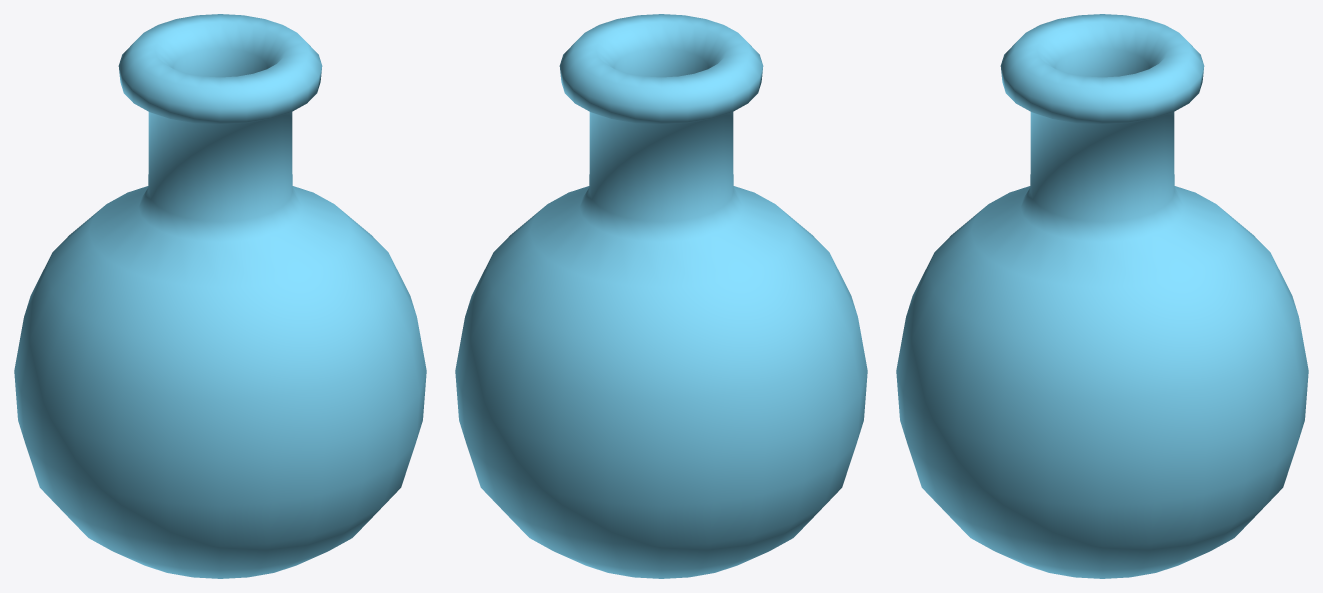
Rendered from Flask, Round Bottom, Short Neck.fbx.
3 views of the same model, side by side, from view 1: azimuth 30°, elevation 25°; view 2: azimuth 150°, elevation 25°; view 3: azimuth 270°, elevation 25° (orthographic).
Parts seen in each view (by area): view 1: Flask, Round Bottom, Short Neck_LOD0; view 2: Flask, Round Bottom, Short Neck_LOD0; view 3: Flask, Round Bottom, Short Neck_LOD0.
Part boxes in pixels (x1=…): Flask, Round Bottom, Short Neck_LOD0: x1=14, y1=14, x2=426, y2=578; Flask, Round Bottom, Short Neck_LOD0: x1=455, y1=14, x2=867, y2=578; Flask, Round Bottom, Short Neck_LOD0: x1=896, y1=14, x2=1308, y2=578.
Size of what is drawn, in the model's own units: 0.4439 by 0.5984 by 0.4439.
